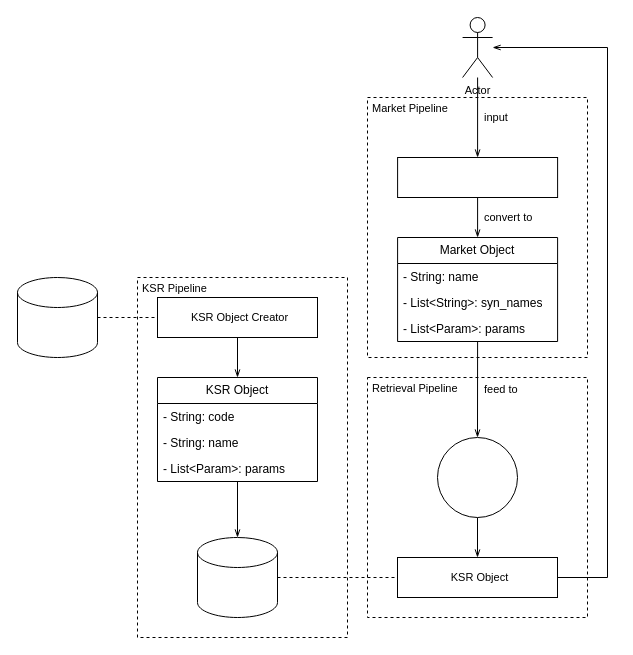
Some shapes in this 633 by 655 pixel diagram are drawn without their labels. The shapes that lost their labels are listed below. From the top down, each one's centre as x and y in pixels, then its label:
(477,177): Market Object Creator
(57,317): ksr.csv
(477,477): LLM
(237,577): KSR Vec DB
